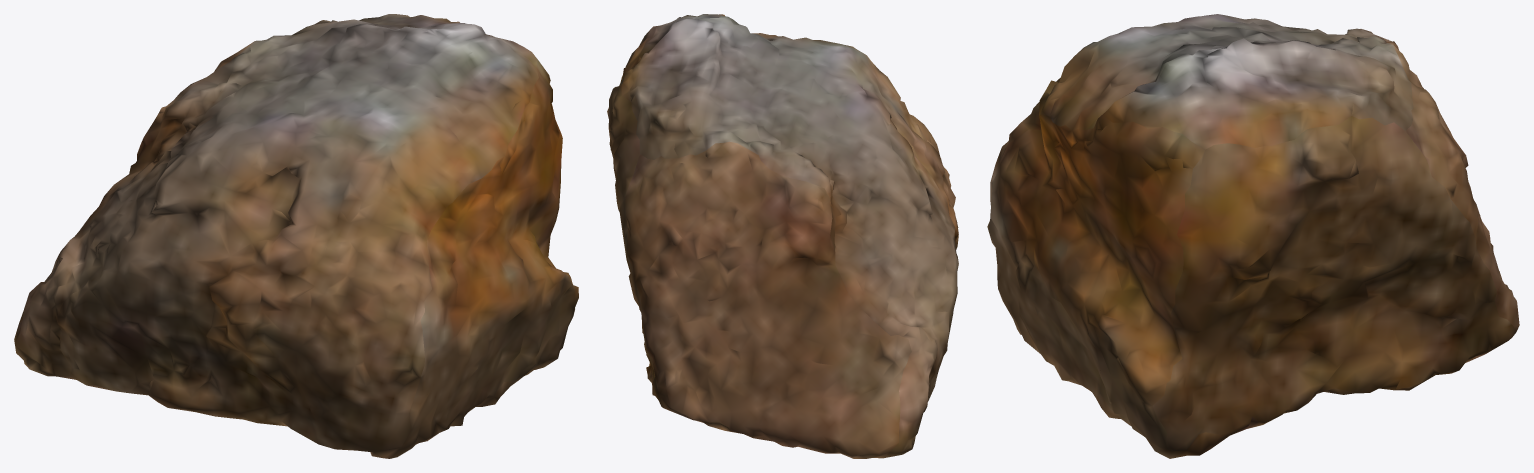
Rendered from namaqualand_boulder_04_lod2.glb.
3 renders of one model, left to right at view 1: azimuth 30°, elevation 25°; view 2: azimuth 150°, elevation 25°; view 3: azimuth 270°, elevation 25°, orthographic. The views are drawn at different scales.
Visible parts, largest first — view 1: boulder_04; view 2: boulder_04; view 3: boulder_04.
Part boxes in pixels (x1=…): boulder_04: x1=14, y1=14, x2=578, y2=458; boulder_04: x1=607, y1=14, x2=958, y2=458; boulder_04: x1=987, y1=14, x2=1519, y2=458.
Size of the model in its own units: 2.52 by 1.9 by 2.49.
1 material, 1 textured.
